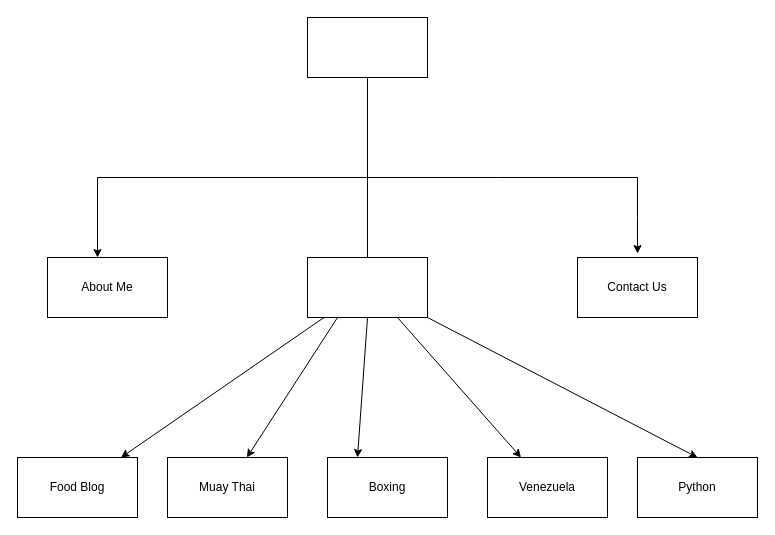
This 775x535 diagram has some shape labels left out. Here are the shapes that lost their labels. From the top down, the box of each, then its label:
(306, 16, 428, 78): Home
(306, 256, 428, 318): Projects
